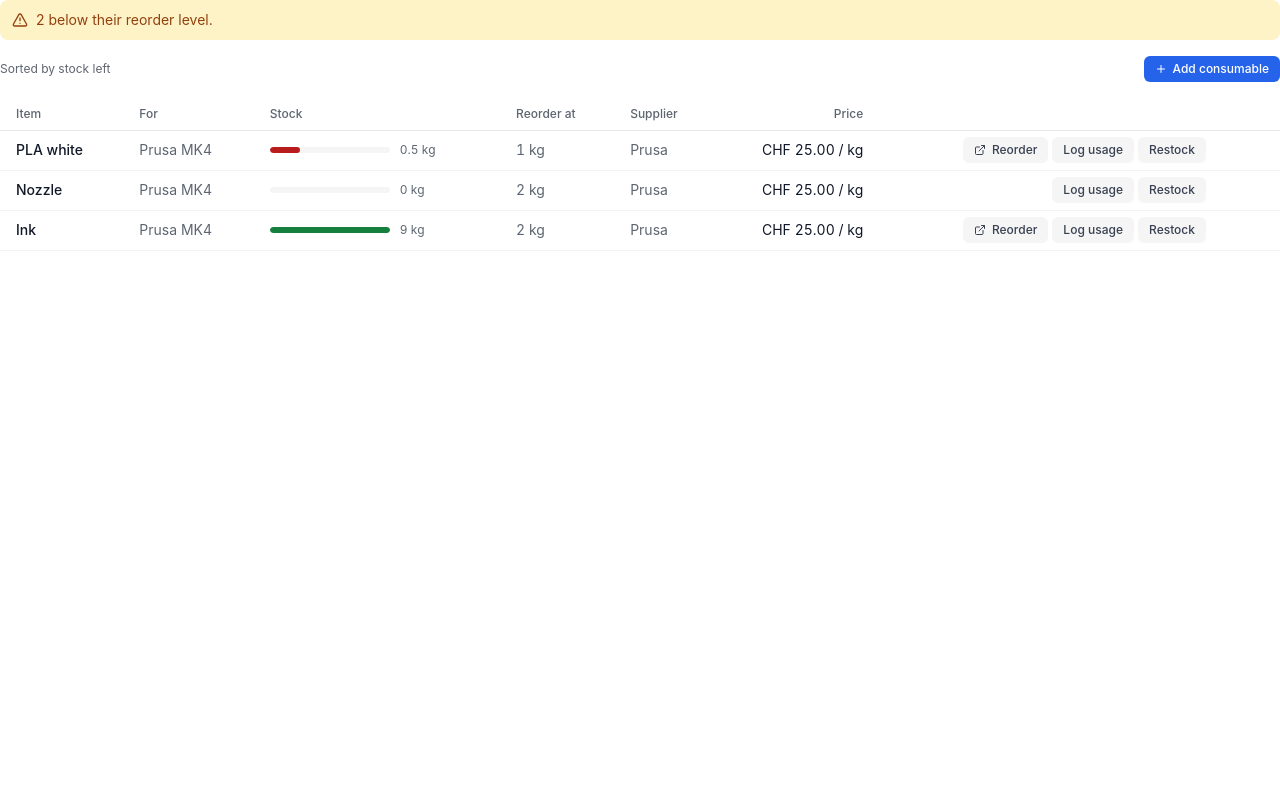
Test case: ConsumablesTab › rejects a zero amount
Step 1. Click the button "Log usage" in the row of "PLA white" → point(1093, 150), box [1052,137,1134,163]
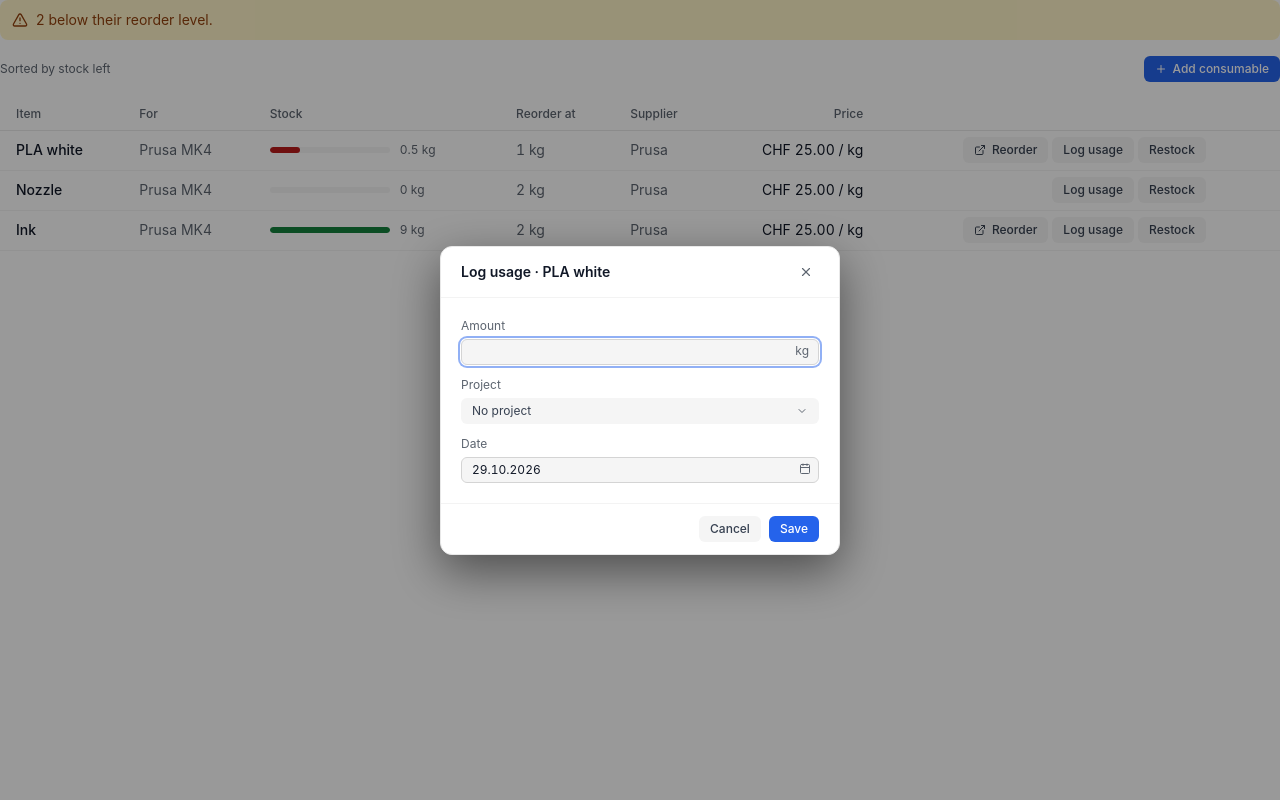
Step 2. Type "0" into the number field labelled "Amount" → point(640, 352), box [461,338,819,364]
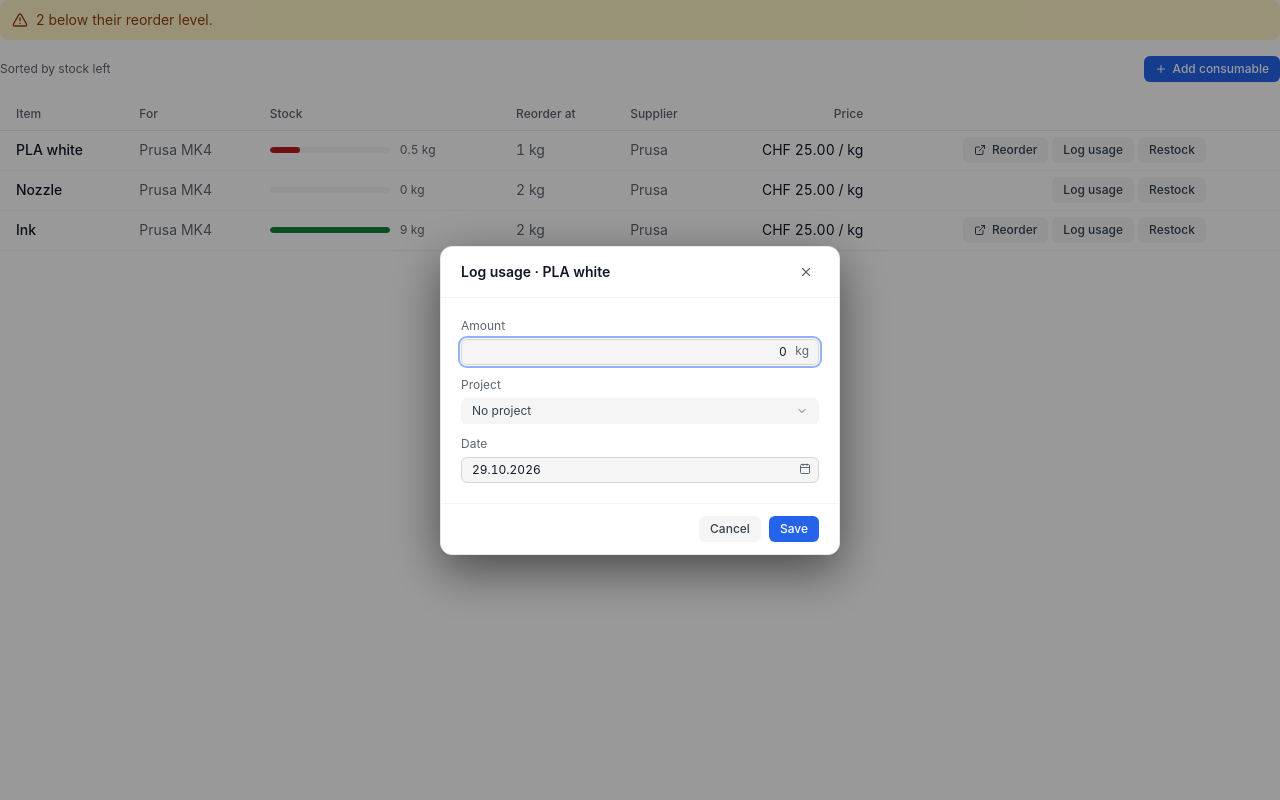
Step 3. Click the button "Save" → point(794, 528), box [769,516,819,542]
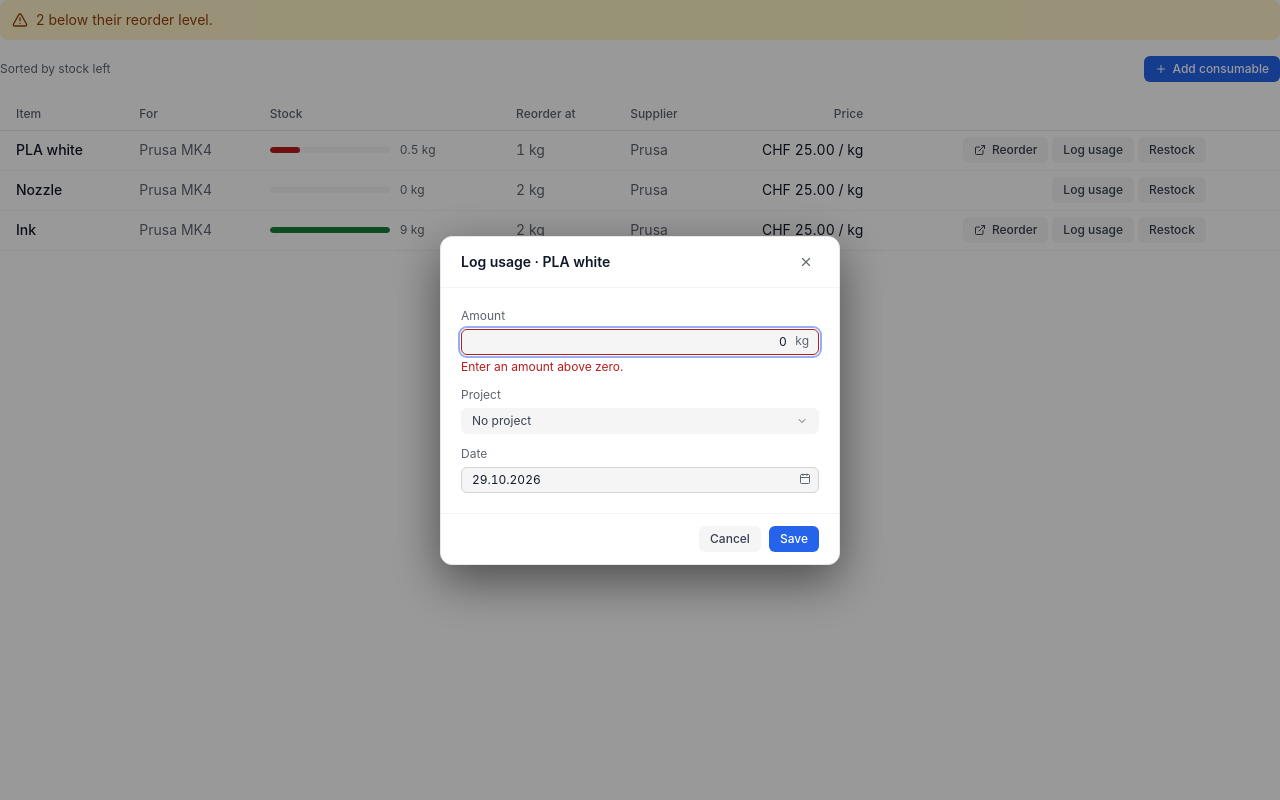
Expected: the text "Enter an amount above zero." is shown, [461,358,624,374]
